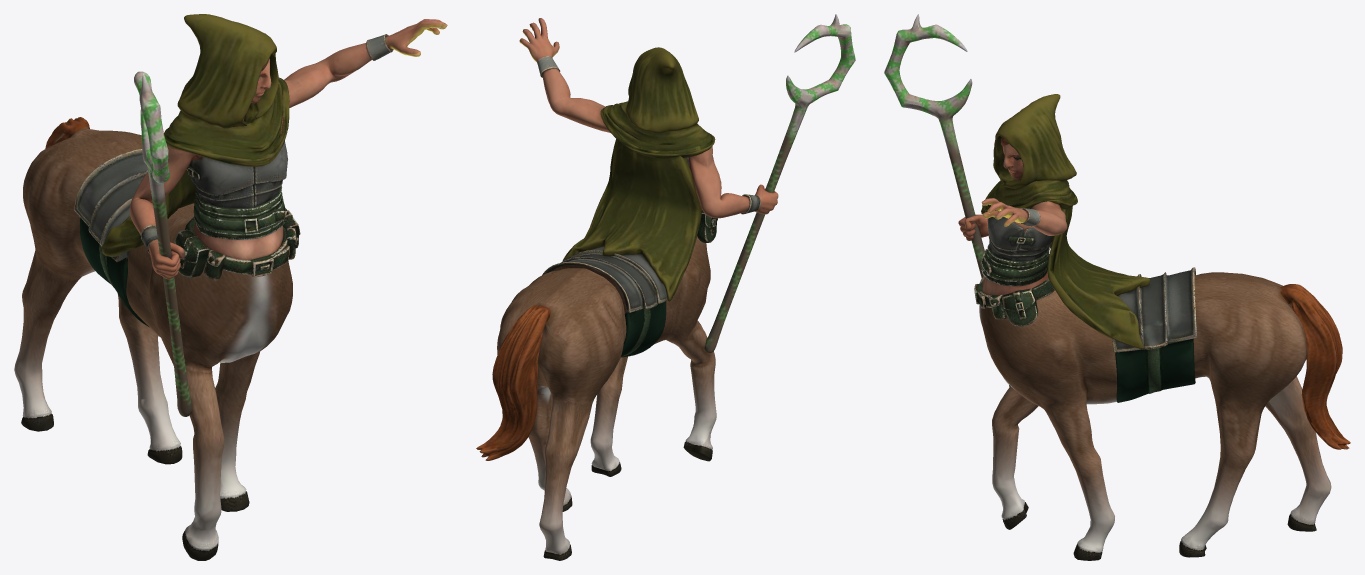
File: MZ4250 - Centaur Warden Female_2025_2.glb
3 views of the same model, side by side, from view 1: azimuth 30°, elevation 25°; view 2: azimuth 150°, elevation 25°; view 3: azimuth 270°, elevation 25° (orthographic). The views are drawn at different scales.
Visible parts, largest first — view 1: Centaur Female Warden 2025.001; view 2: Centaur Female Warden 2025.001; view 3: Centaur Female Warden 2025.001.
Part boxes in pixels (x1,y1,x2,y2): Centaur Female Warden 2025.001: (14,14,447,560); Centaur Female Warden 2025.001: (476,14,855,560); Centaur Female Warden 2025.001: (884,14,1350,560).
Bounding box in the file's own units: 38.59 × 56.87 × 51.54.
Materials: 1 (1 with a texture image).
